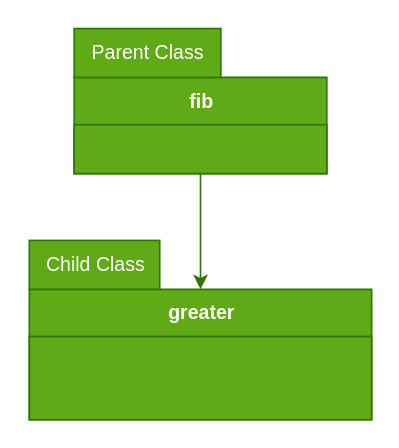
Image size: 399x448. Some labels were removed from this diagram. The centre of each missing label's shape, as x and y in pixels:
"Calculate Fibonacci Series" belongs at (200,148).
"Find out greater number out of two" belongs at (200,377).
